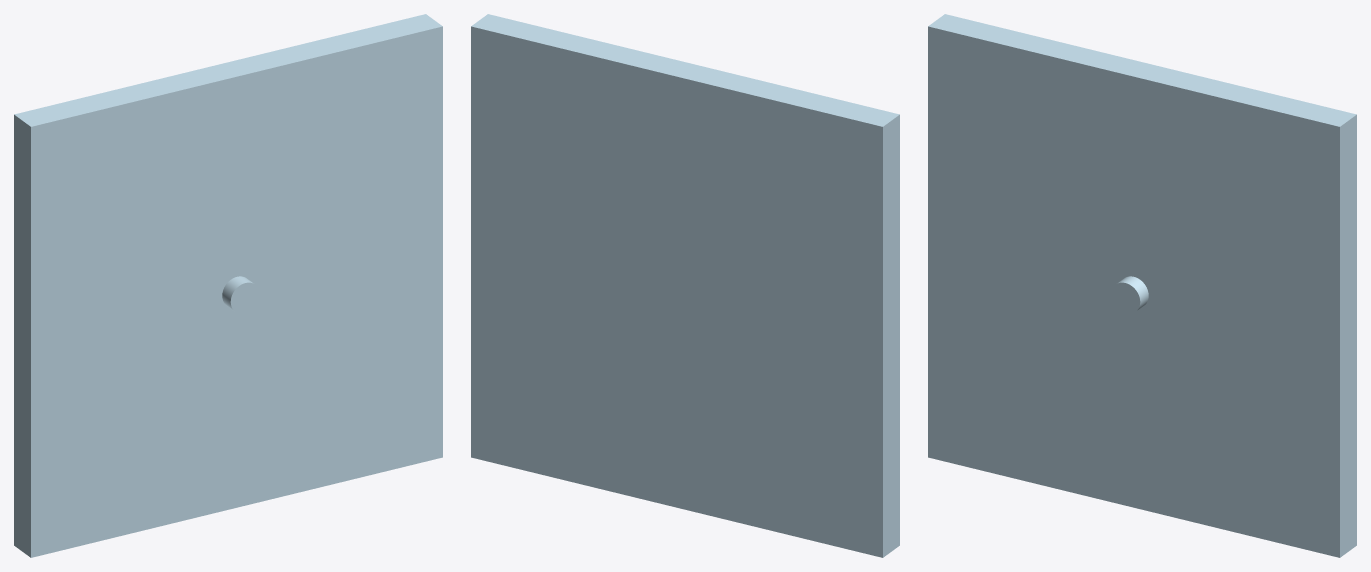
3 renders of one model, left to right at view 1: azimuth 30°, elevation 25°; view 2: azimuth 150°, elevation 25°; view 3: azimuth 330°, elevation 25°, orthographic.
Parts seen in each view (by area): view 1: Part 1; view 2: Part 1; view 3: Part 1.
Part boxes in pixels (<box>): Part 1: <box>14,14,442,557</box>; Part 1: <box>471,14,899,557</box>; Part 1: <box>928,14,1356,557</box>.
Size of the model in its own units: 0.14 by 0.14 by 0.015.
